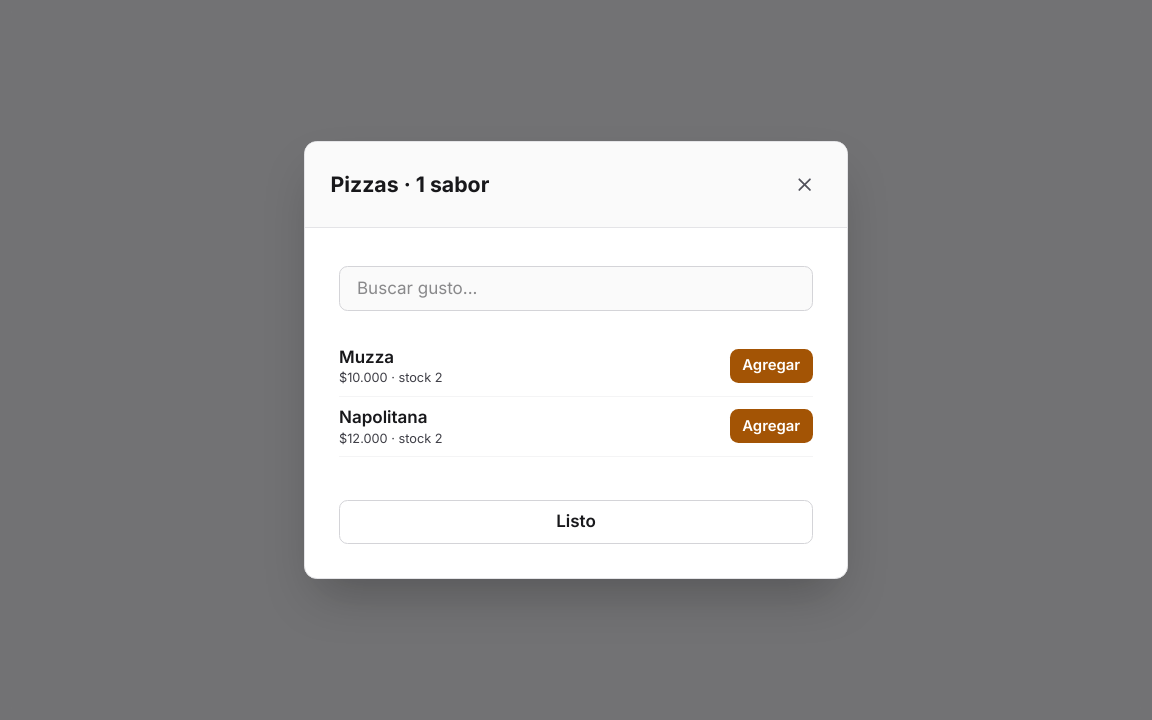
Scenario: lista de gustos de una presentación (US-5 CA-2 a CA-4) › las pizzas van de la más barata a la más cara y el buscador ignora mayúsculas y acentos (US-35)
In the search field labelled "Buscar gusto": (576, 288) [339,266,813,311], type "NÁPO"
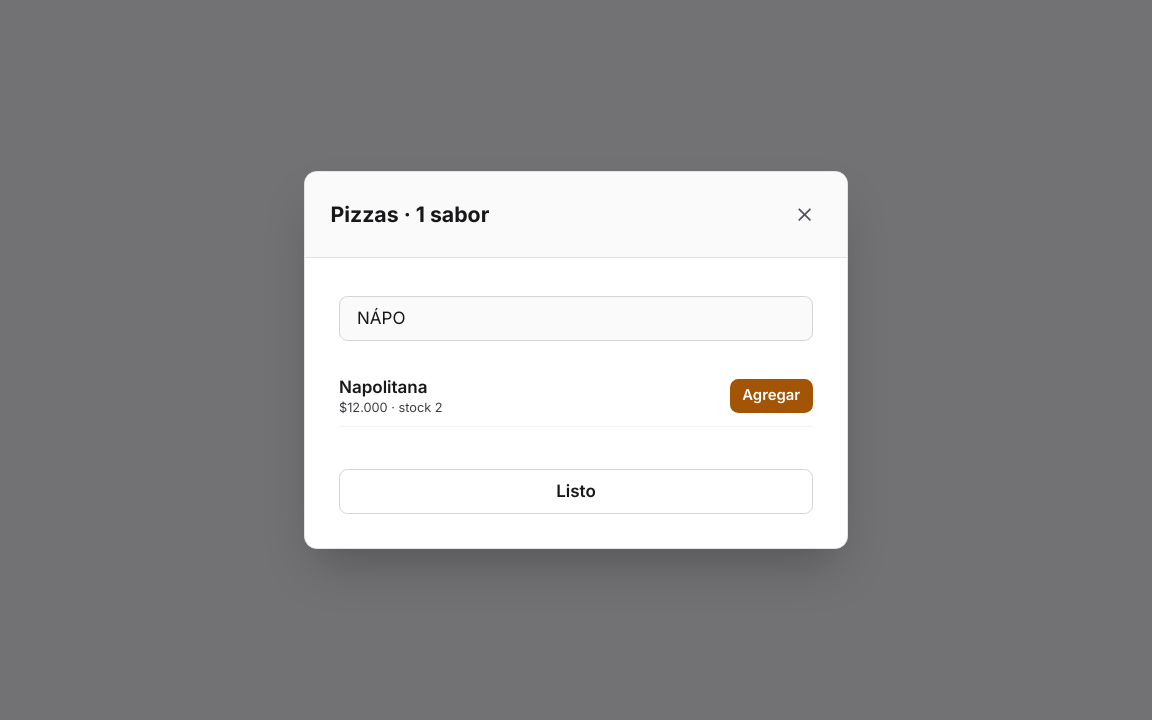
Replace the text in the search field named "Buscar gusto" with "fugazzeta": (576, 319) [339,296,813,341]
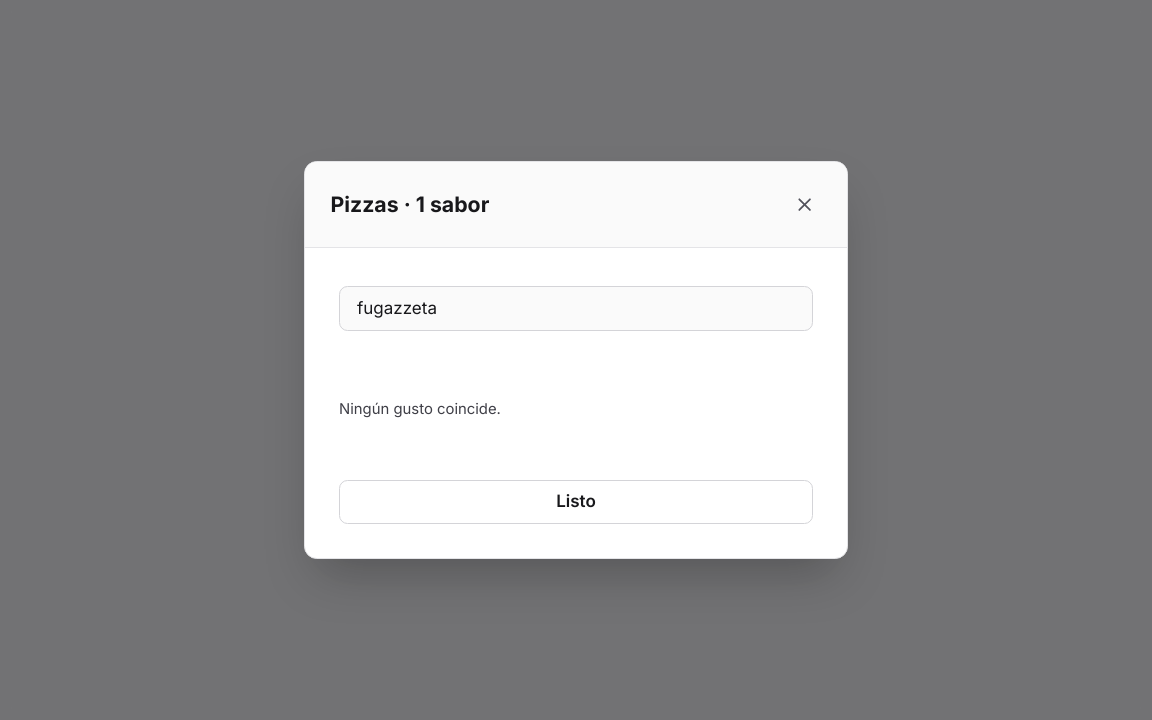
Check: the text "Ningún gusto coincide." is shown, box [339,400,501,418]
